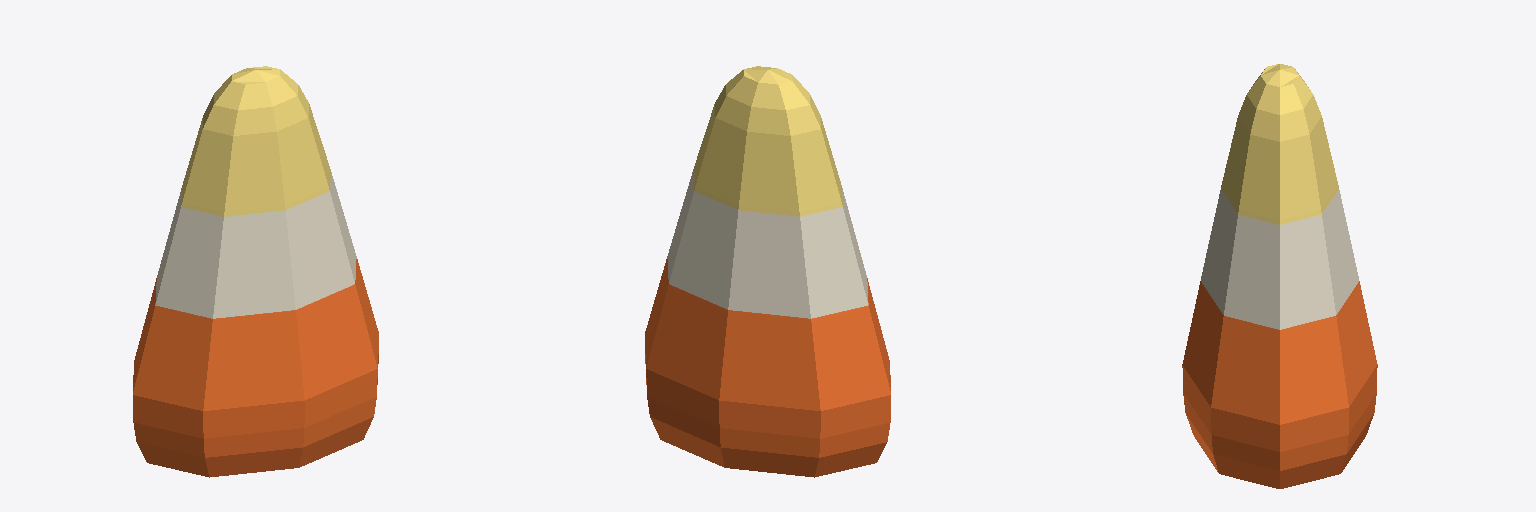
The picture shows the model from 3 angles: view 1: azimuth 30°, elevation 25°; view 2: azimuth 150°, elevation 25°; view 3: azimuth 270°, elevation 25°; orthographic projection.
Visible parts, largest first — view 1: Candy_Corn; view 2: Candy_Corn; view 3: Candy_Corn.
Boxes of the visible parts, x1,y1,x2,y2 form: Candy_Corn: [133, 66, 378, 477]; Candy_Corn: [645, 66, 890, 477]; Candy_Corn: [1182, 64, 1377, 488].
Size of the model in its own units: 1.36 by 1.96 by 0.9312.
Materials: 1 (1 with a texture image).